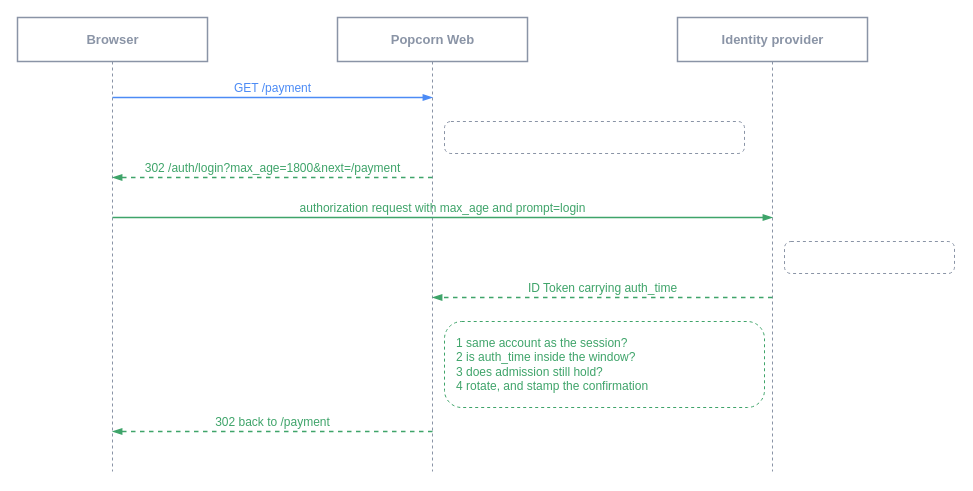
Some shapes in this 973 by 491 pixel diagram are drawn without their labels. The shapes that lost their labels are listed below. From the top down, each one's centre as x and y in pixels, then its label:
point (594, 137): auth_time is older than the window
point (869, 257): re-authenticate
